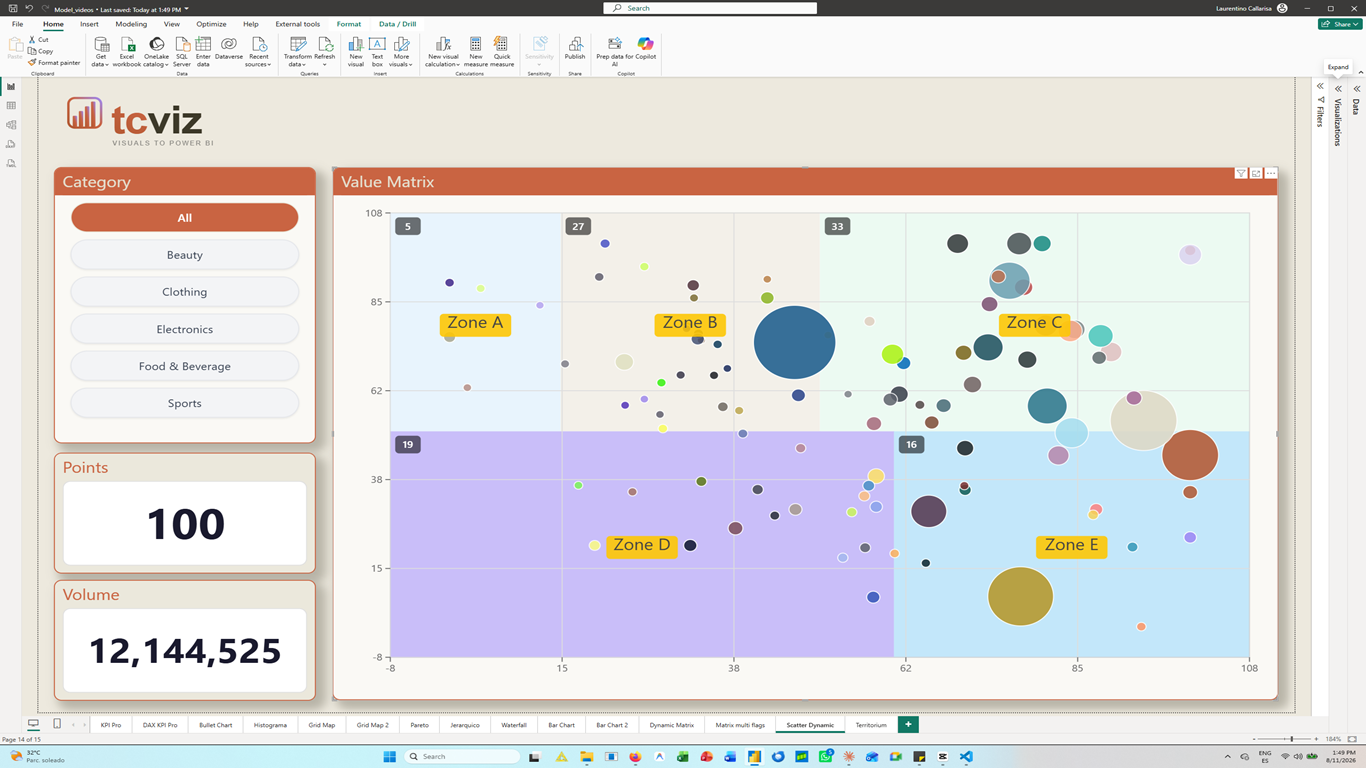

Layout of this report page (visuals, bound fields, positions):
{"tool":"powerbi","page":{"name":"Scatter Dynamic","canvas":[1280,720],"ordinal":0},"visuals":[{"type":"chipSlicerFree","fields":{"category":["Dataset.Category"]},"box":[15.7,102.4,267,313.4],"z":4},{"type":"image","box":[15.7,9,185.5,80.6],"z":6},{"type":"simpleCardPro8E70690E06BD4DD98F31050F64B6E5C6","title":"Points","fields":{"measure":["CountNonNull(Dataset.Category)"]},"box":[15.7,426.1,267,136.8],"z":7},{"type":"simpleCardPro8E70690E06BD4DD98F31050F64B6E5C6","title":"Volume","fields":{"measure":["Sum(Dataset.Sales)"]},"box":[15.7,570.1,267,136.8],"z":8},{"type":"asymmetricMatrixTCVIZ","title":"Asymmetric Matrix ","fields":{"category":["Dataset.Category"],"size":["Sum(Dataset.Sales)"],"xValue":["Avg(Dataset.X Score)"],"yValue":["Avg(Dataset.Y Score)"]},"box":[299.5,101.8,971.5,605],"z":9}]}

Visuals, with their boxes on the page's 1280x720 design canvas (x1, y1, x2, y2). These are canvas units, not pixel positions in the 1366x768 screenshot, which may show the page scaled, cropped or inside an application window:
chipSlicerFree - Dataset.Category: box(16, 102, 283, 416)
image: box(16, 9, 201, 90)
"Points" simpleCardPro8E70690E06BD4DD98F31050F64B6E5C6: box(16, 426, 283, 563)
"Volume" simpleCardPro8E70690E06BD4DD98F31050F64B6E5C6: box(16, 570, 283, 707)
"Asymmetric Matrix " asymmetricMatrixTCVIZ: box(300, 102, 1271, 707)
